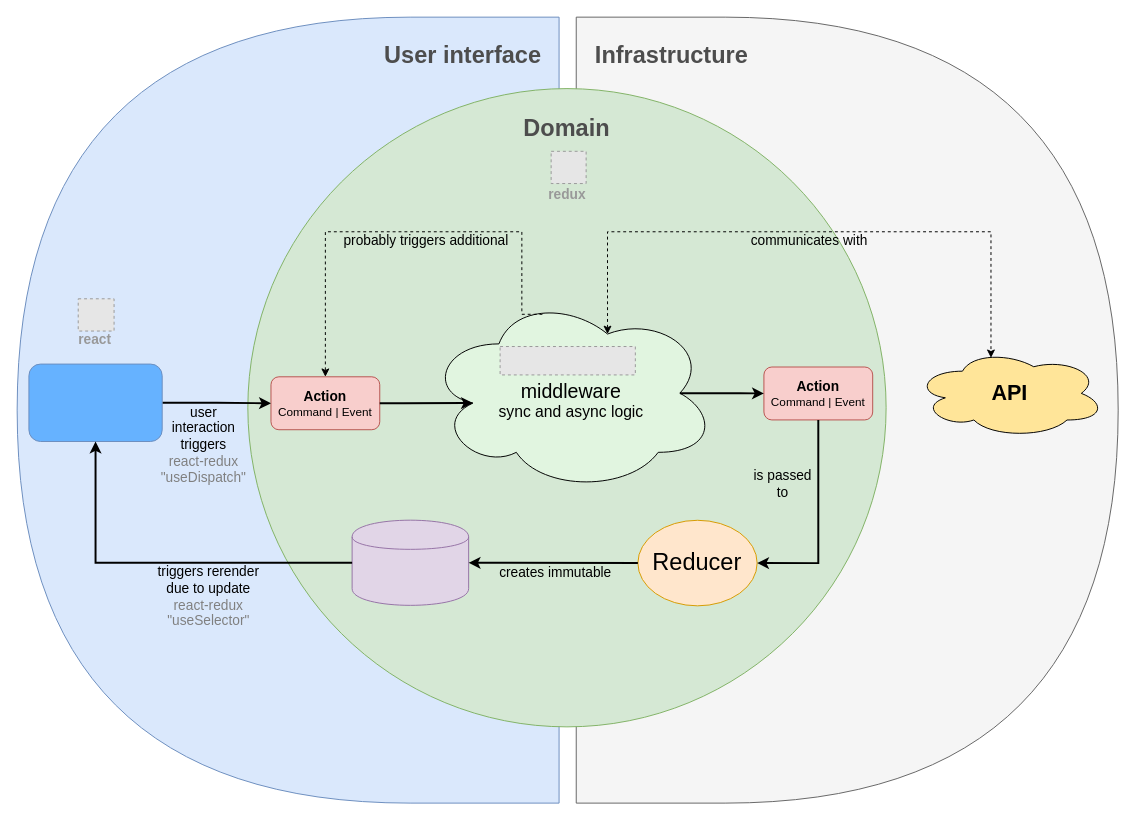
This 1136x820 diagram has some shape labels left out. Grey dashed boxes stand in for pictures. Here are the shapes that lost their labels. From the top down, the centre of each, then its label:
At (x=95, y=402): "Component".
At (x=410, y=562): "State".
